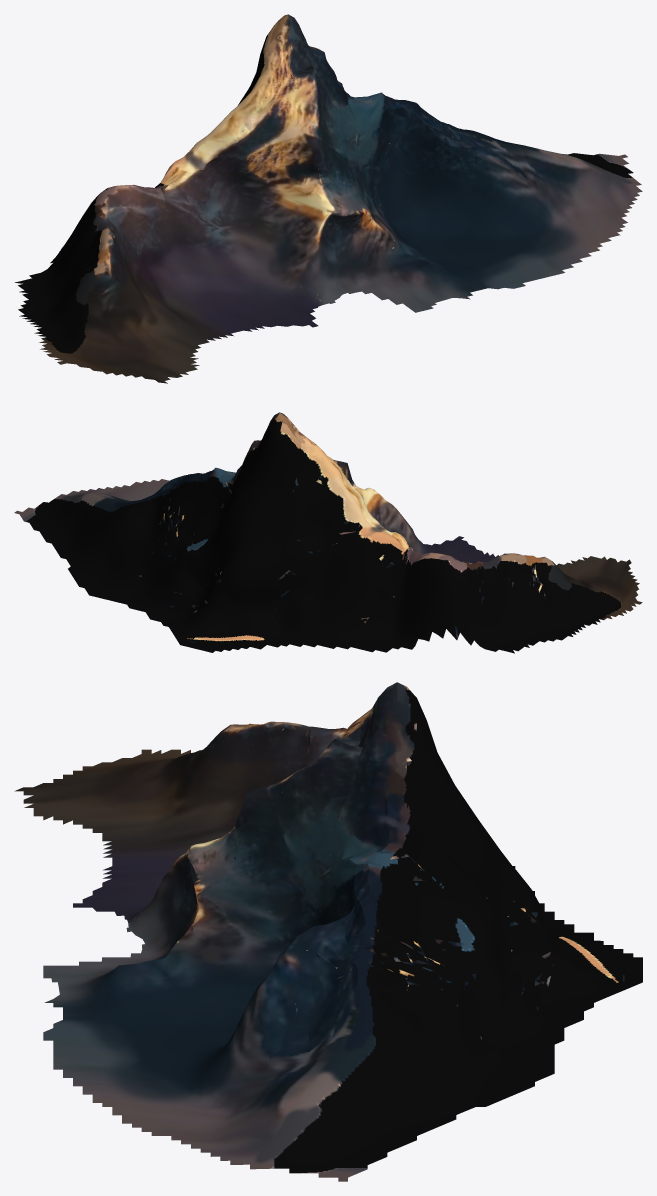
File: paramount_mountain_2012.glb
3 views of the same model, one above another, from view 1: azimuth 30°, elevation 25°; view 2: azimuth 150°, elevation 25°; view 3: azimuth 270°, elevation 25° (orthographic). The views are drawn at different scales.
Parts seen in each view (by area): view 1: Object_2; view 2: Object_2; view 3: Object_2.
Part boxes in pixels (x1,y1,x2,y2): Object_2: [15, 14, 642, 383]; Object_2: [14, 412, 642, 653]; Object_2: [14, 682, 642, 1181].
Bounding box in the file's own units: 15.44 × 4.73 × 9.5.
Materials: 1 (1 with a texture image).
